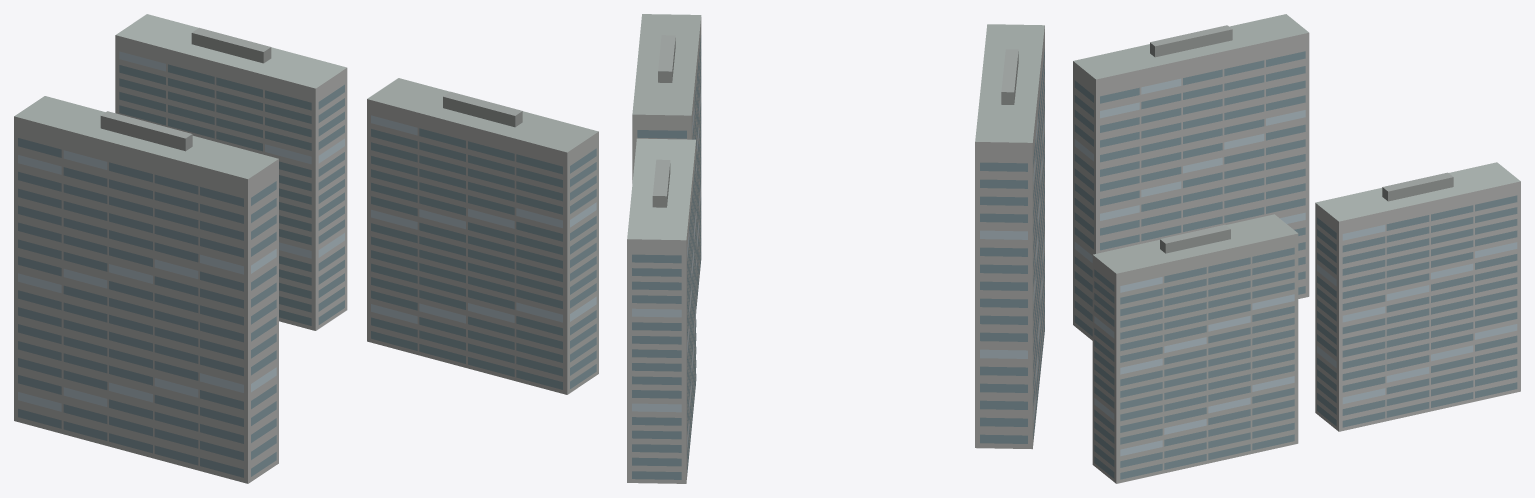
The model's file is apt-a15081802.glb.
3 views of the same model, side by side, from view 1: azimuth 30°, elevation 25°; view 2: azimuth 150°, elevation 25°; view 3: azimuth 270°, elevation 25° (orthographic). The views are drawn at different scales.
Parts seen in each view (by area): view 1: apt-a15081802; view 2: apt-a15081802; view 3: apt-a15081802.
Boxes of the visible parts, bbox=[...] form: apt-a15081802: bbox=[14, 14, 598, 483]; apt-a15081802: bbox=[627, 14, 1044, 483]; apt-a15081802: bbox=[1073, 14, 1520, 483].
Bounding box in the file's own units: 96.29 × 60 × 88.52.
